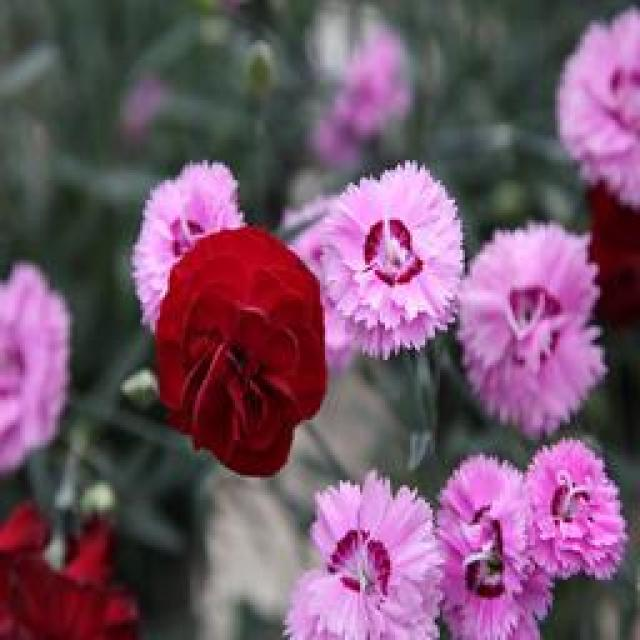carnation: (137, 202, 338, 478)
